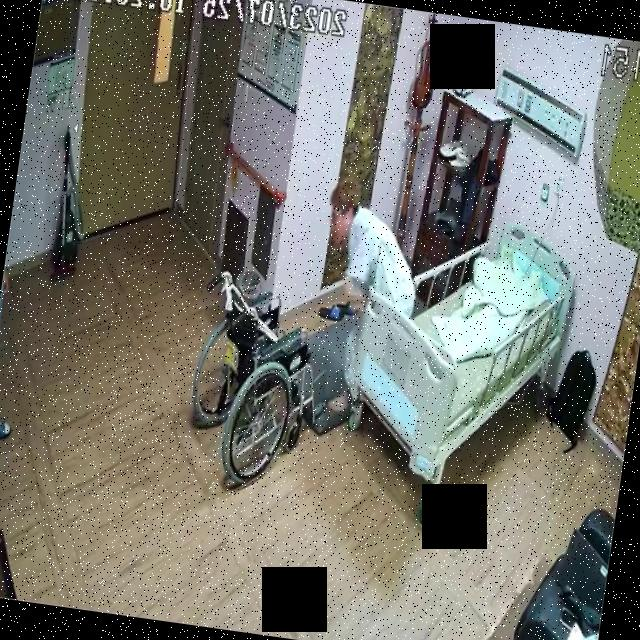bed: (338, 209, 579, 500)
danger: (306, 186, 424, 414)
patient: (302, 180, 428, 420)
